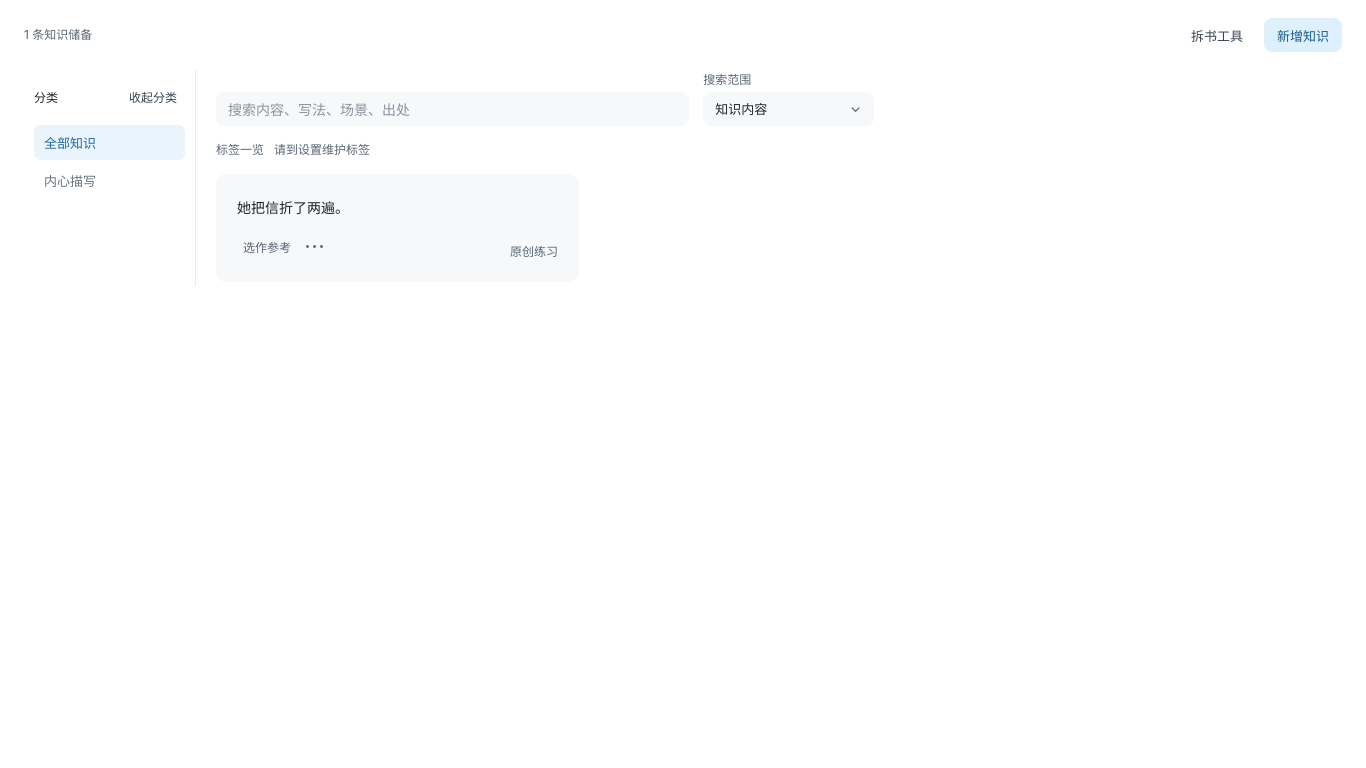
Test case: 收起仅呈现原句，展开可阅读手法场景练习，选参考说明附带注释
Expected: the text "以重复动作承载情绪" is not shown
Click the button with aria-label "展开知识" at point(293, 208), box 237,195 -> 558,221
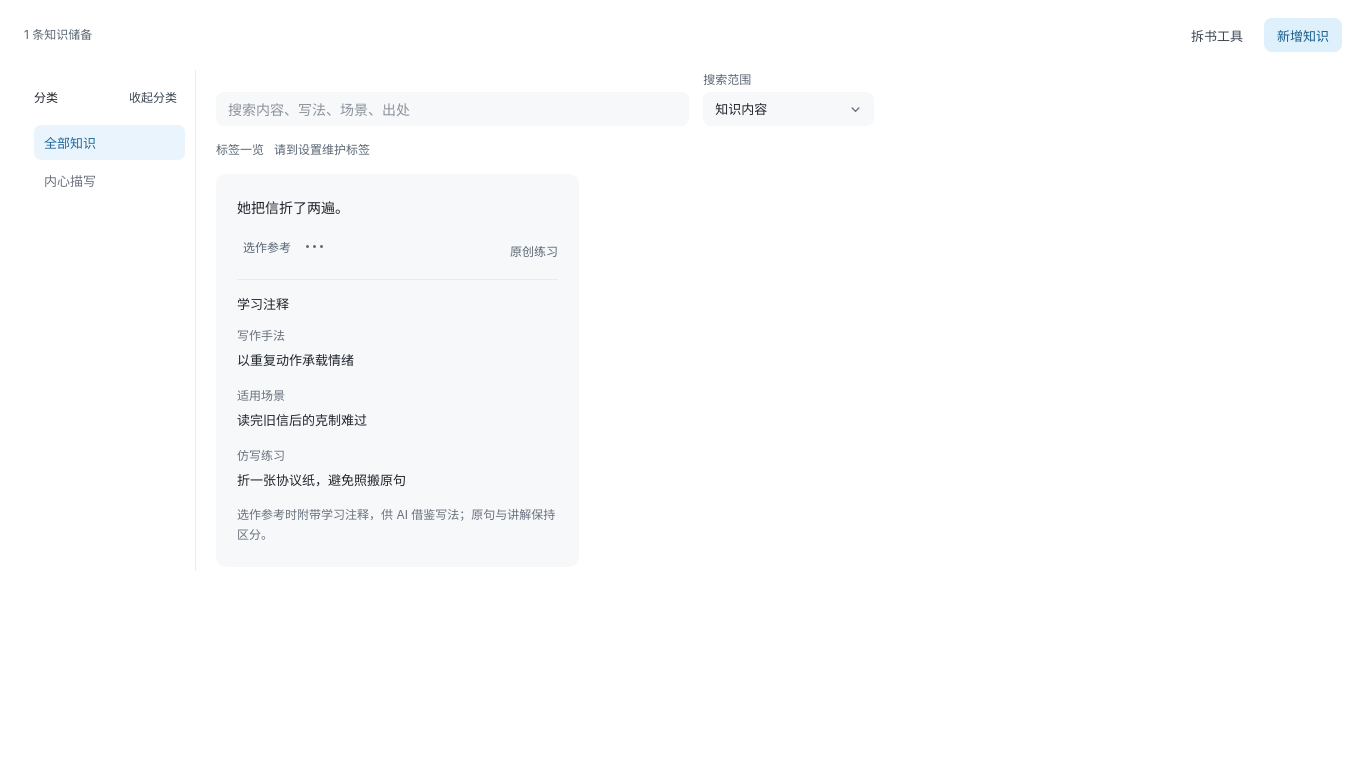
Expected: the text "以重复动作承载情绪" is shown, 237,352 -> 354,368
Expected: the text "读完旧信后的克制难过" is shown, 237,412 -> 367,428
Expected: the text "折一张协议纸，避免照搬原句" is shown, 237,472 -> 406,488
